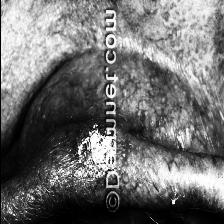Potentially Malignant Skin Tumors: (74, 120, 108, 170)
